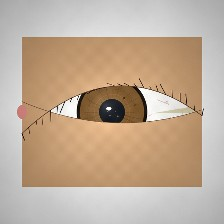pterygium_lesion: (146, 90, 203, 134)
